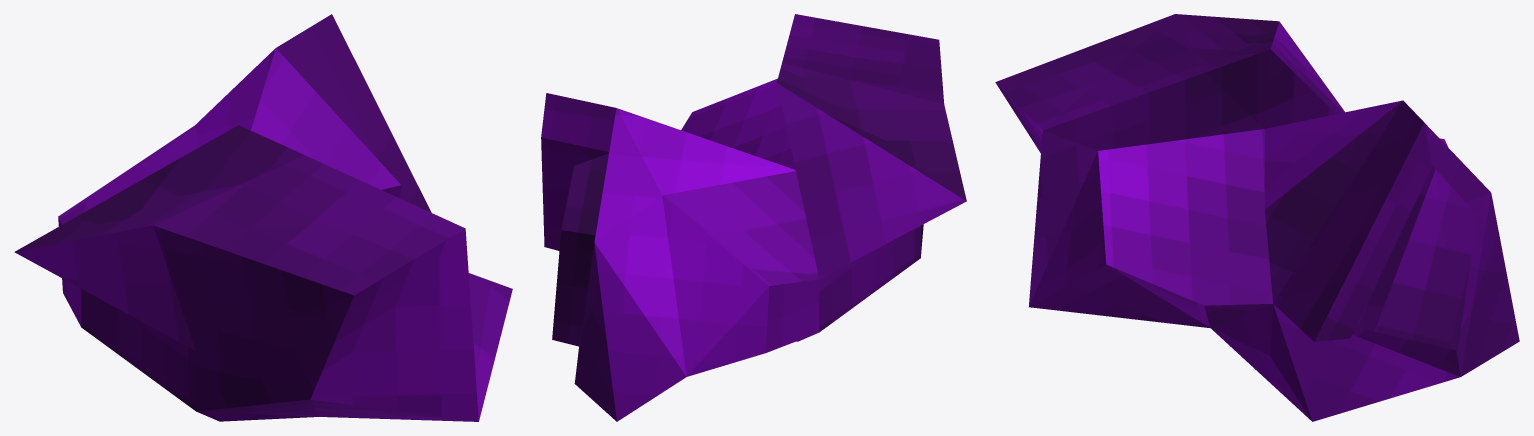
File: asteroid_large1_old2.fbx
3 renders of one model, left to right at view 1: azimuth 30°, elevation 25°; view 2: azimuth 150°, elevation 25°; view 3: azimuth 270°, elevation 25°, orthographic. The views are drawn at different scales.
Visible parts, largest first — view 1: Cube; view 2: Cube; view 3: Cube.
Boxes of the visible parts, x1,y1,x2,y2 form: Cube: (14,14,512,421); Cube: (541,14,966,421); Cube: (995,14,1519,421).
Bounding box in the file's own units: 10.53 × 7.45 × 11.39.
